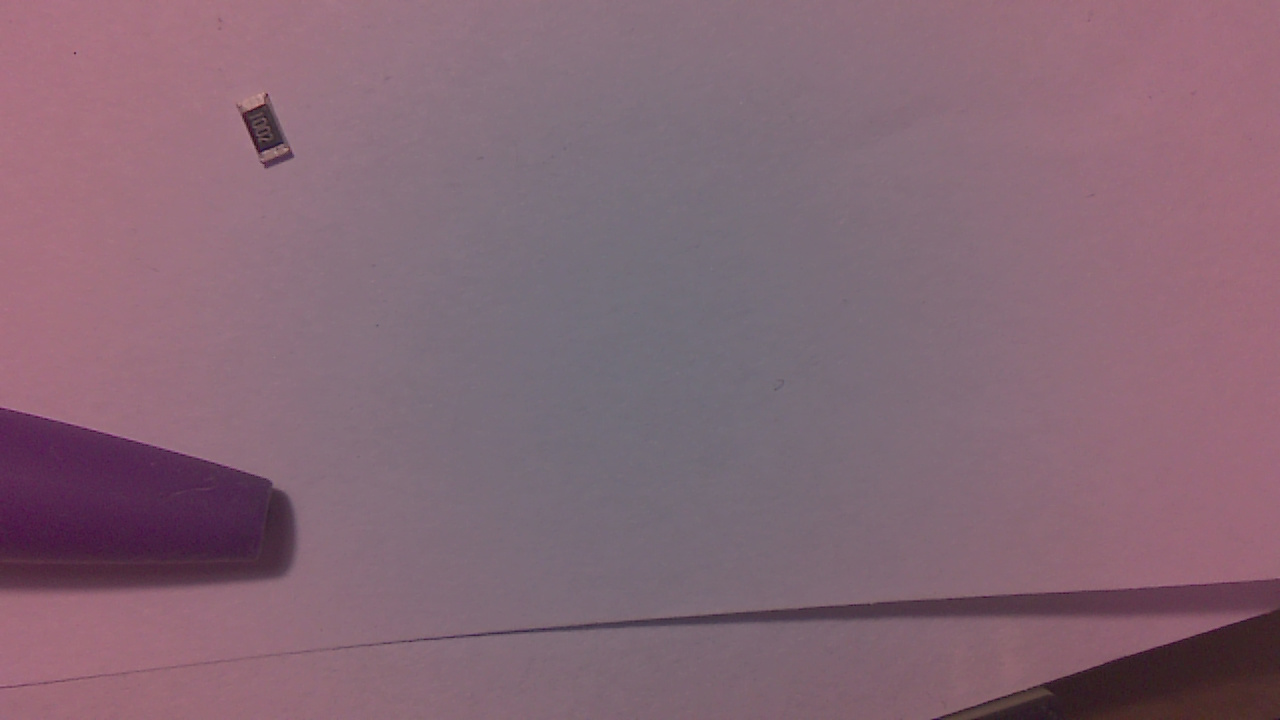Resistor: (244, 97, 300, 176)
